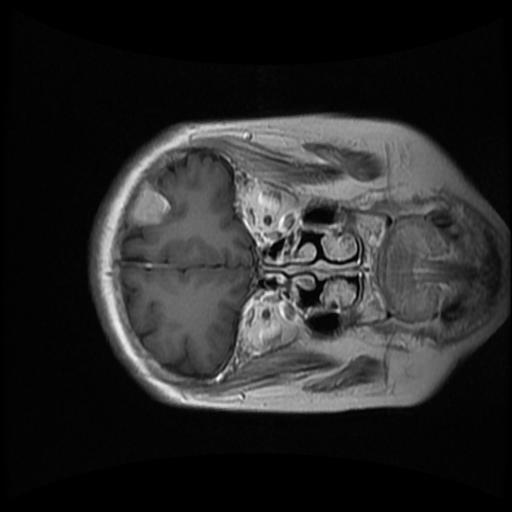meningioma: (130, 181, 170, 226)
